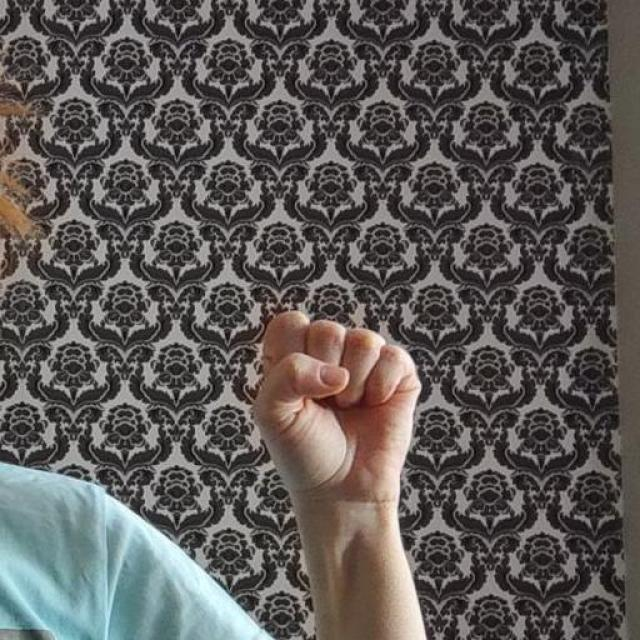hand: (248, 308, 422, 504)
